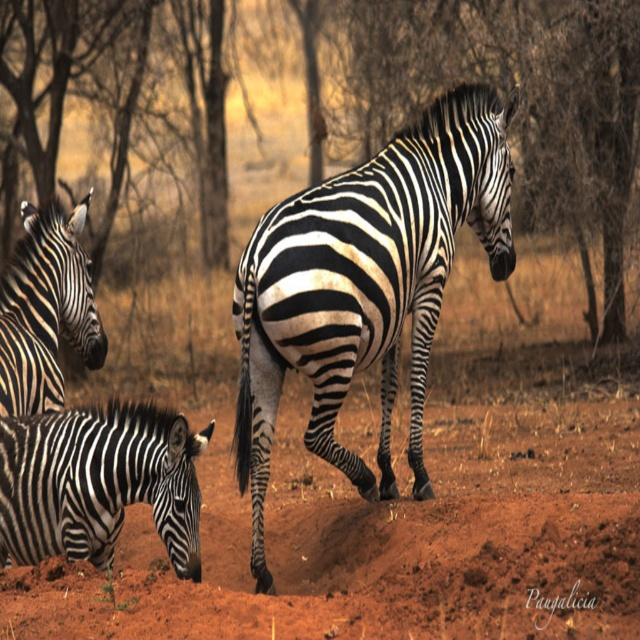Zebra: (227, 80, 520, 597), (0, 391, 216, 583), (1, 181, 110, 414)
